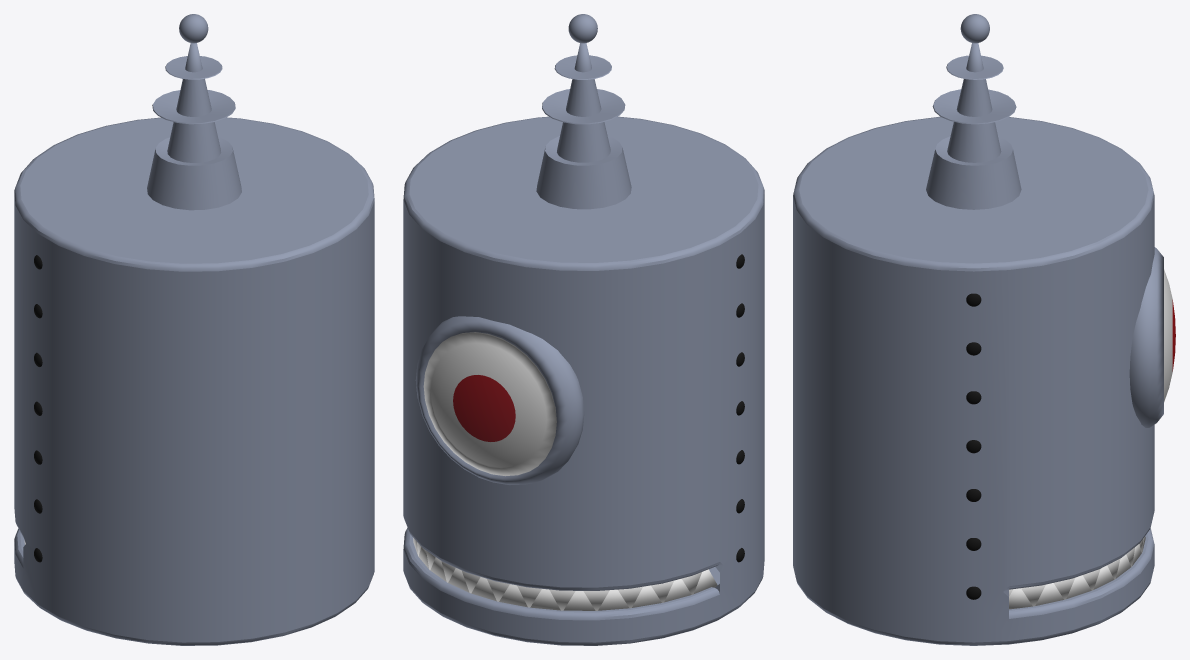
The model's file is Robot Base_Mouth Closed.fbx.
3 renders of one model, left to right at view 1: azimuth 30°, elevation 25°; view 2: azimuth 150°, elevation 25°; view 3: azimuth 270°, elevation 25°, orthographic.
Visible parts, largest first — view 1: Head.004, Antenna.002, Rivets.005, Sphere.010; view 2: Head.004, Eye.006, Antenna.002, Teeth.003, Rivets.005, Sphere.010; view 3: Head.004, Antenna.002, Eye.006, Teeth.003, Rivets.005, Sphere.010.
Boxes of the visible parts, x1,y1,x2,y2 form: Head.004: (14, 117, 374, 645); Antenna.002: (147, 43, 241, 210); Rivets.005: (34, 255, 42, 562); Sphere.010: (179, 14, 208, 43); Head.004: (403, 116, 764, 645); Eye.006: (415, 316, 584, 484); Antenna.002: (536, 43, 631, 209); Teeth.003: (413, 538, 717, 610); Rivets.005: (736, 254, 744, 562); Sphere.010: (568, 14, 597, 43); Head.004: (793, 116, 1154, 645); Antenna.002: (926, 43, 1021, 209); Eye.006: (1129, 247, 1175, 427); Teeth.003: (1009, 536, 1145, 609); Rivets.005: (966, 293, 981, 599); Sphere.010: (960, 14, 989, 43).
Size of the model in its own units: 305 by 510 by 318.
